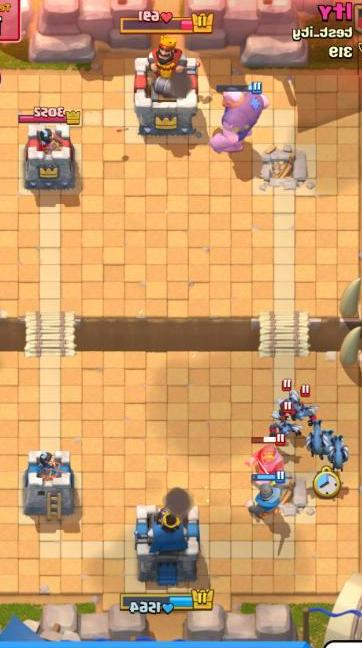enemy_knight: (242, 435, 290, 477)
player_giant: (206, 80, 271, 155)
player_knight: (244, 475, 292, 520)
player_minions: (302, 418, 330, 456), (324, 431, 350, 469), (291, 397, 317, 424)
